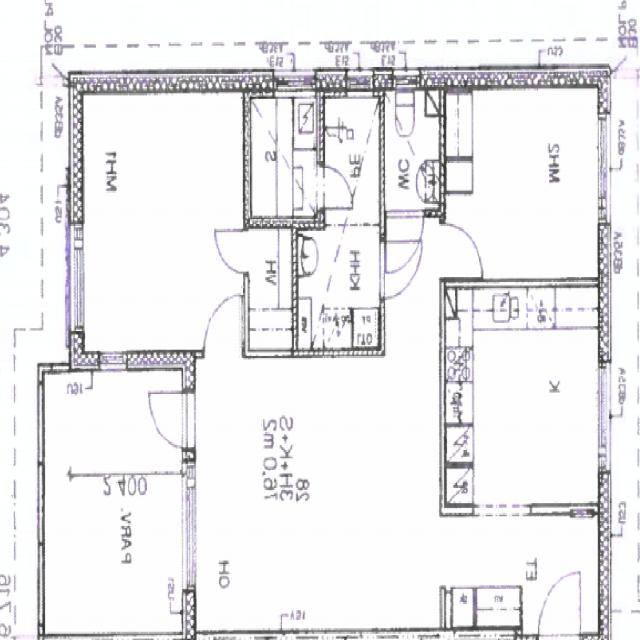door: (538, 573, 580, 640), (145, 394, 195, 449), (380, 242, 423, 298), (204, 295, 241, 359), (386, 210, 423, 272), (440, 225, 481, 278), (317, 168, 353, 210), (214, 231, 248, 274)
